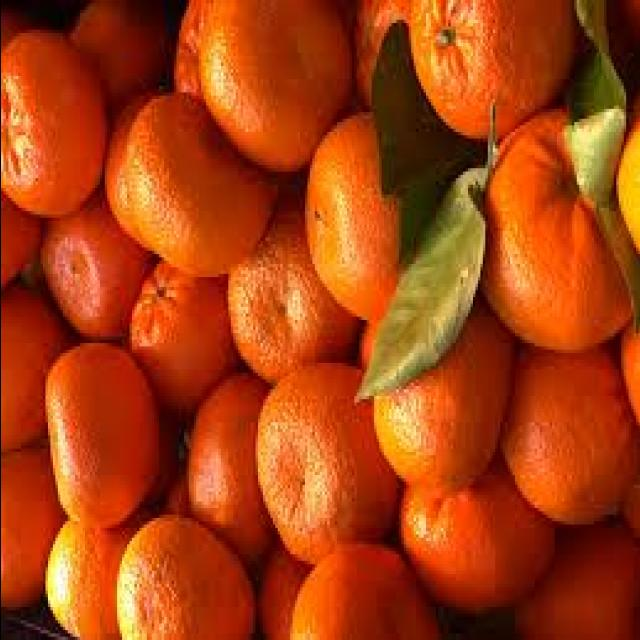orange: (41, 342, 160, 530)
